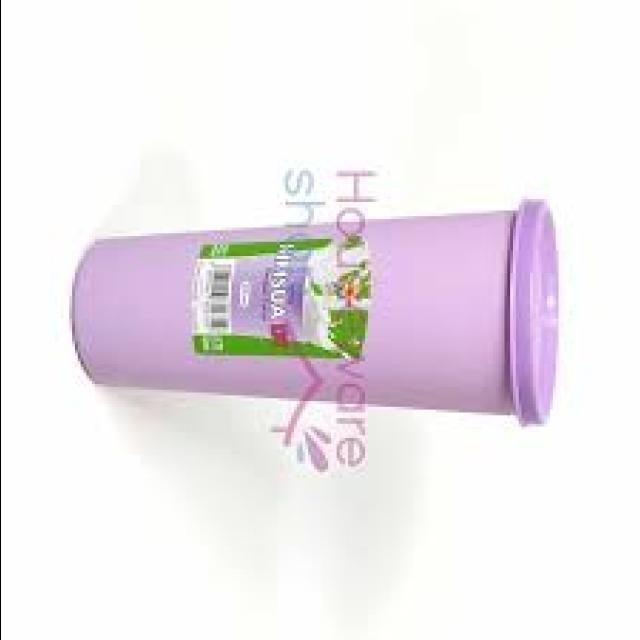寶特瓶: (45, 140, 572, 462)
